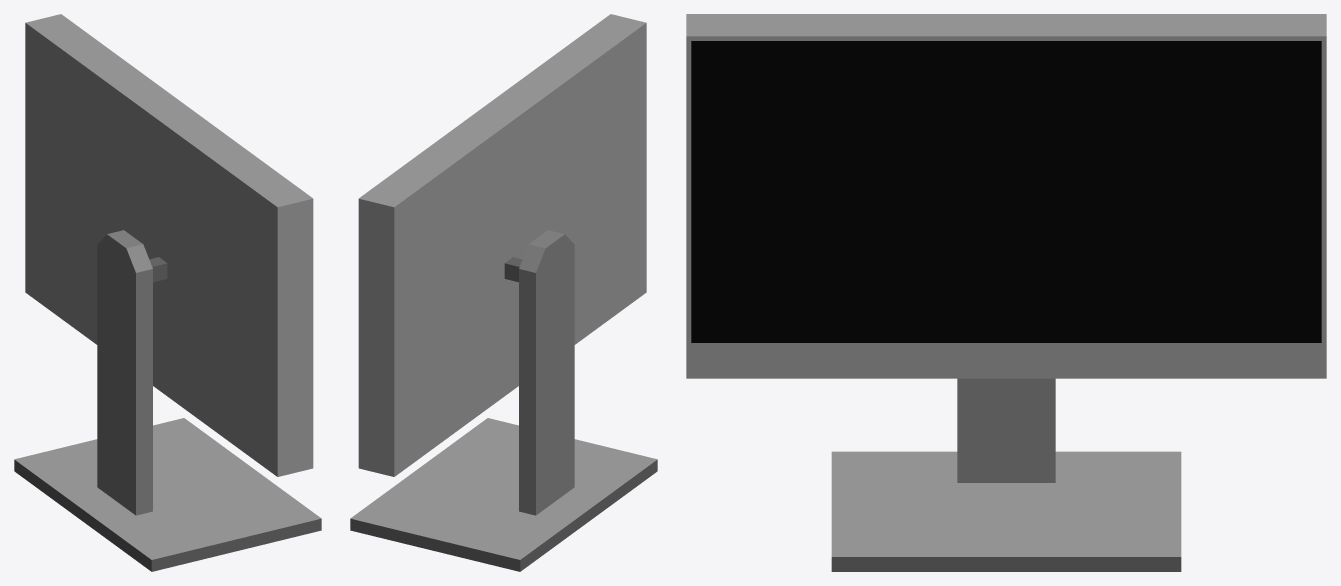
The model's file is Monitor.fbx.
3 renders of one model, left to right at view 1: azimuth 30°, elevation 25°; view 2: azimuth 150°, elevation 25°; view 3: azimuth 270°, elevation 25°, orthographic. The views are drawn at different scales.
Parts seen in each view (by area): view 1: Monitor; view 2: Monitor; view 3: Monitor.
Part boxes in pixels (<box>): Monitor: <box>14,14,321,571</box>; Monitor: <box>350,14,657,571</box>; Monitor: <box>686,14,1326,571</box>.
Size of the model in its own units: 23.73 by 52.02 by 61.
